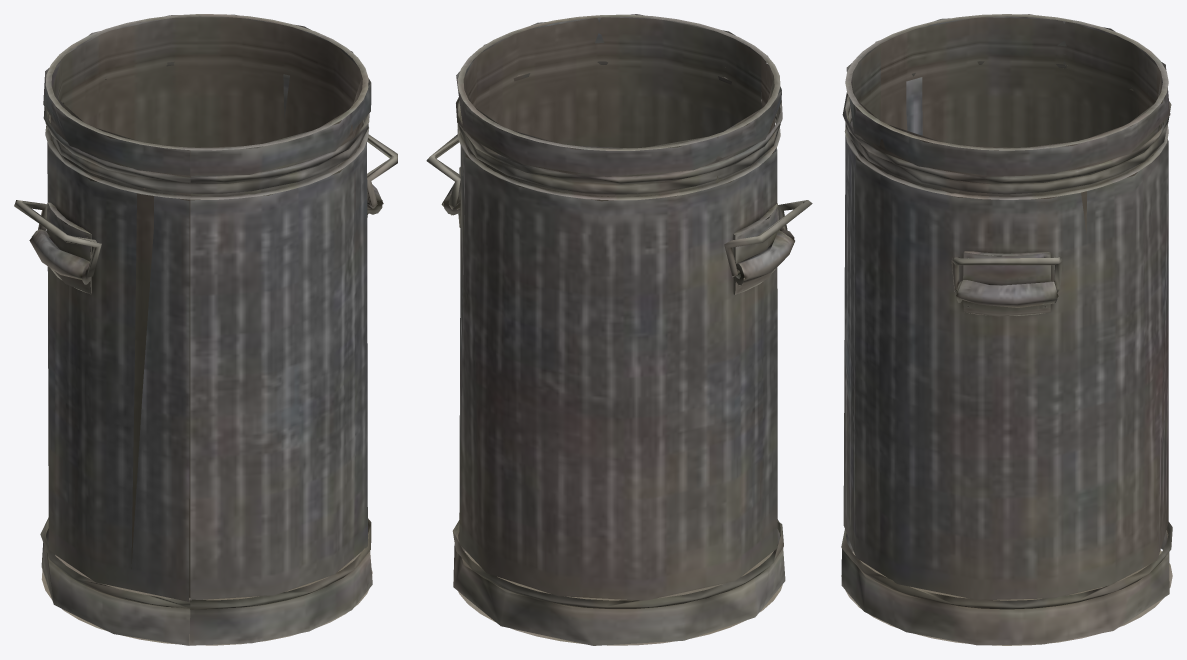
File: trash_can_metal_ph.glb
The picture shows the model from 3 angles, left to right: view 1: azimuth 30°, elevation 25°; view 2: azimuth 150°, elevation 25°; view 3: azimuth 270°, elevation 25°; orthographic projection.
Visible parts, largest first — view 1: trash_can_metal_ph; view 2: trash_can_metal_ph; view 3: trash_can_metal_ph.
Part boxes in pixels (box(x1,y1,x2,y2)): trash_can_metal_ph: box(14, 14, 397, 645); trash_can_metal_ph: box(426, 14, 812, 645); trash_can_metal_ph: box(841, 14, 1172, 645).
Size of the model in its own units: 0.6498 by 0.9062 by 0.5517.
Materials: 1 (1 with a texture image).
